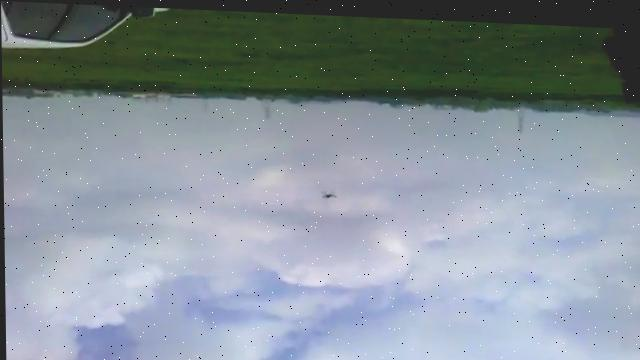drone: (317, 186, 339, 201)
